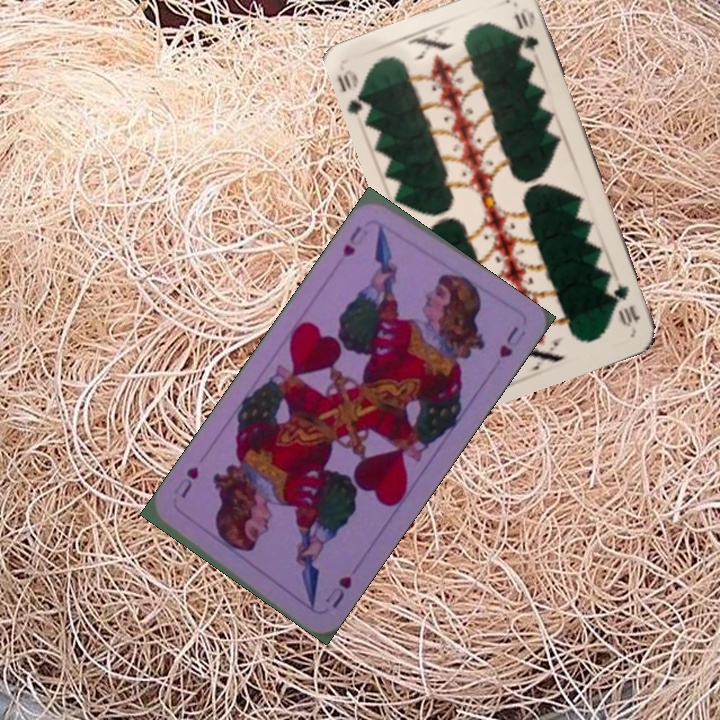G10: (333, 65, 374, 120), (609, 278, 643, 330)
HU: (321, 571, 355, 611), (338, 221, 371, 260)
